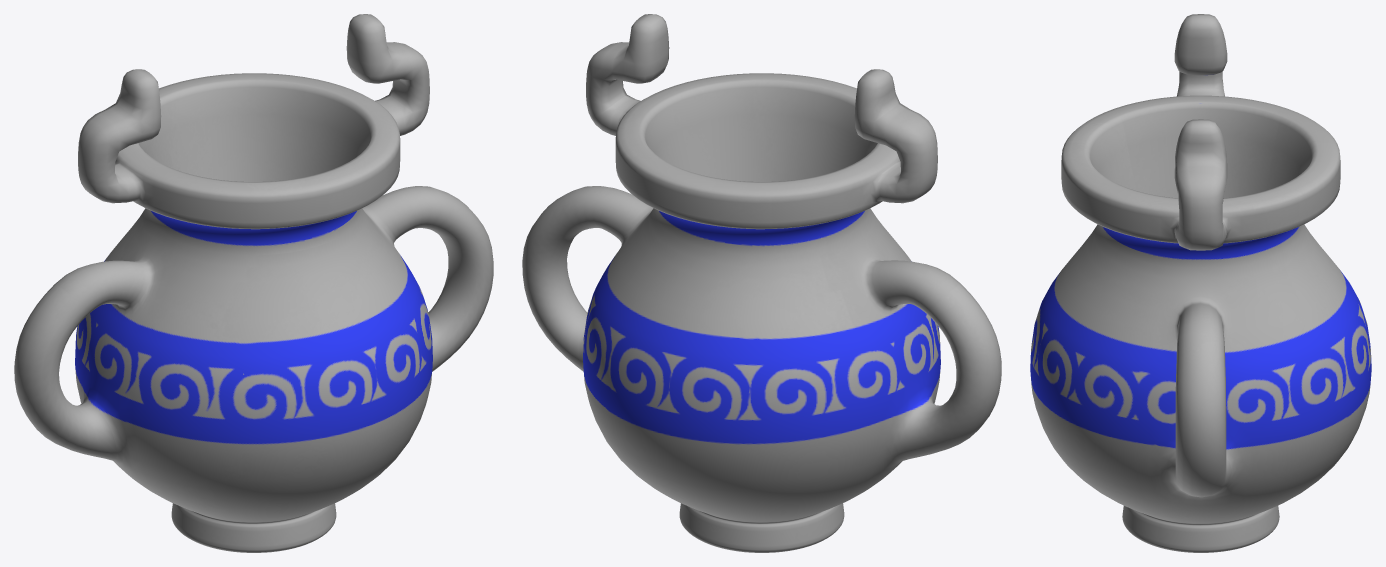
The model's file is Gust Jar New.fbx.
3 views of the same model, side by side, from view 1: azimuth 30°, elevation 25°; view 2: azimuth 150°, elevation 25°; view 3: azimuth 270°, elevation 25° (orthographic). The views are drawn at different scales.
Visible parts, largest first — view 1: GustJar_Bottom, GustJar_Top; view 2: GustJar_Bottom, GustJar_Top; view 3: GustJar_Bottom, GustJar_Top.
Part boxes in pixels (left/top/right/bottom): GustJar_Bottom: left=14, top=186, right=493, bottom=552; GustJar_Top: left=78, top=14, right=429, bottom=229; GustJar_Bottom: left=522, top=186, right=1001, bottom=552; GustJar_Top: left=586, top=14, right=937, bottom=229; GustJar_Bottom: left=1030, top=224, right=1371, bottom=552; GustJar_Top: left=1061, top=14, right=1340, bottom=250.
Size of the model in its own units: 442 by 427 by 291.
Materials: 1 (1 with a texture image).
